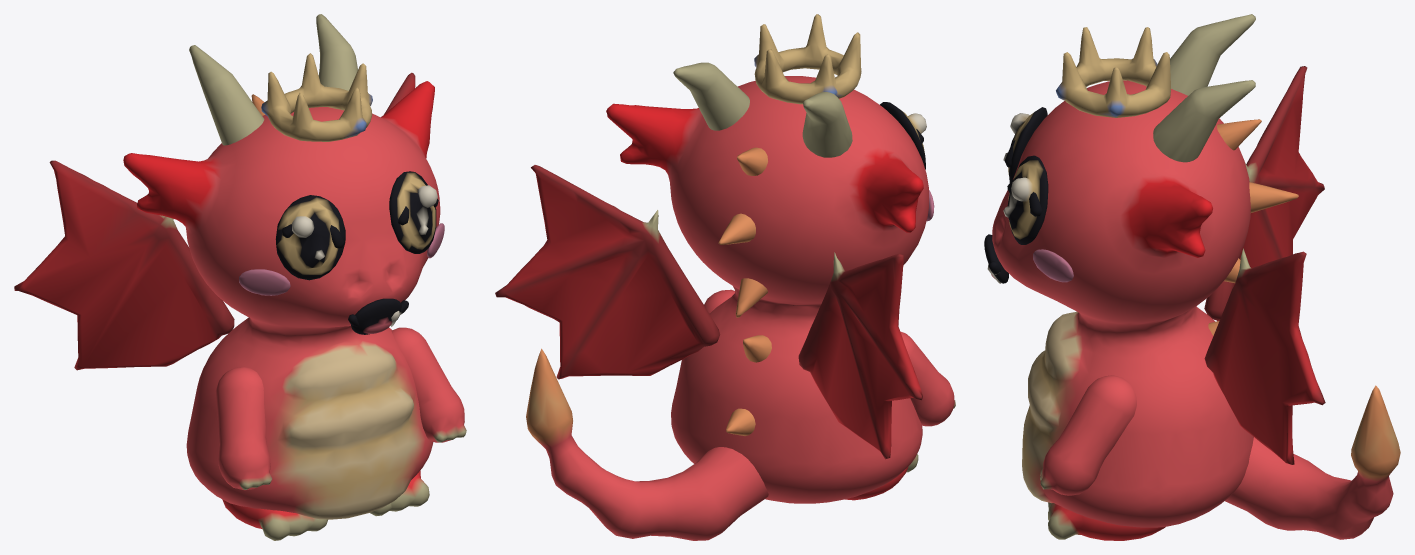
File: drageunge.glb
3 views of the same model, side by side, from view 1: azimuth 30°, elevation 25°; view 2: azimuth 150°, elevation 25°; view 3: azimuth 270°, elevation 25° (orthographic). The views are drawn at different scales.
Parts seen in each view (by area): view 1: body_mesh, wing_L_mesh, crown_mesh, arm_L_mesh, eye_L, arm_R_mesh, horn_L_mesh, eye_R, horn_R_mesh, foot_L_mesh, mouth_open, cheek_L (+1 smaller); view 2: body_mesh, wing_R_mesh, tail_mesh, wing_L_mesh, crown_mesh, horn_R_mesh, horn_L_mesh, arm_L_mesh, eye_L, spike_1_mesh, spike_2_mesh, spike_0_mesh (+2 smaller); view 3: body_mesh, wing_R_mesh, tail_mesh, wing_L_mesh, arm_R_mesh, crown_mesh, horn_R_mesh, horn_L_mesh, eye_R, foot_R_mesh, eye_L, cheek_R (+2 smaller).
Boxes of the visible parts, x1=… form: body_mesh: x1=123, y1=81, x2=440, y2=519; wing_L_mesh: x1=14, y1=160, x2=234, y2=370; crown_mesh: x1=261, y1=53, x2=372, y2=141; arm_L_mesh: x1=215, y1=366, x2=272, y2=490; eye_L: x1=275, y1=195, x2=345, y2=280; arm_R_mesh: x1=391, y1=327, x2=466, y2=442; horn_L_mesh: x1=189, y1=45, x2=264, y2=145; eye_R: x1=389, y1=171, x2=437, y2=253; horn_R_mesh: x1=316, y1=14, x2=357, y2=90; foot_L_mesh: x1=222, y1=499, x2=328, y2=540; mouth_open: x1=351, y1=298, x2=401, y2=334; cheek_L: x1=239, y1=269, x2=290, y2=295; body_mesh: x1=606, y1=76, x2=928, y2=503; wing_R_mesh: x1=495, y1=165, x2=720, y2=379; tail_mesh: x1=526, y1=348, x2=768, y2=540; wing_L_mesh: x1=798, y1=252, x2=922, y2=459; crown_mesh: x1=754, y1=14, x2=861, y2=104; horn_R_mesh: x1=673, y1=62, x2=749, y2=130; horn_L_mesh: x1=802, y1=92, x2=852, y2=157; arm_L_mesh: x1=900, y1=331, x2=955, y2=426; eye_L: x1=880, y1=102, x2=926, y2=169; spike_1_mesh: x1=718, y1=213, x2=755, y2=244; spike_2_mesh: x1=735, y1=278, x2=767, y2=317; spike_0_mesh: x1=737, y1=147, x2=767, y2=175; body_mesh: x1=992, y1=80, x2=1253, y2=527; wing_R_mesh: x1=1204, y1=248, x2=1325, y2=464; tail_mesh: x1=1225, y1=385, x2=1400, y2=539; wing_L_mesh: x1=1204, y1=66, x2=1324, y2=321; arm_R_mesh: x1=1040, y1=375, x2=1136, y2=495; crown_mesh: x1=1056, y1=27, x2=1170, y2=117; horn_R_mesh: x1=1153, y1=80, x2=1255, y2=162; horn_L_mesh: x1=1170, y1=14, x2=1255, y2=95; eye_R: x1=1003, y1=155, x2=1048, y2=244; foot_R_mesh: x1=1048, y1=502, x2=1165, y2=540; eye_L: x1=1003, y1=107, x2=1047, y2=182; cheek_R: x1=1033, y1=249, x2=1073, y2=282.
Bounding box in the file's own units: 0.7741 × 0.7788 × 0.6271.
